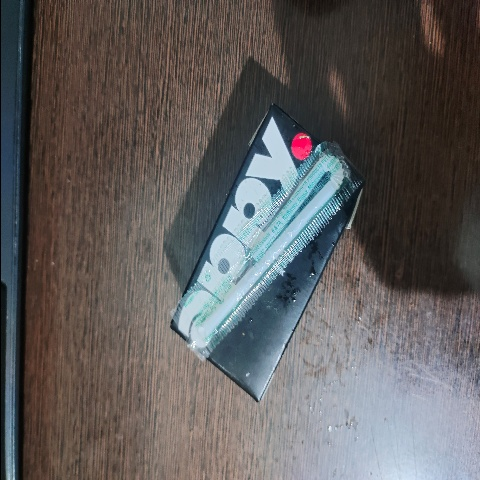appy: (151, 93, 373, 412)
